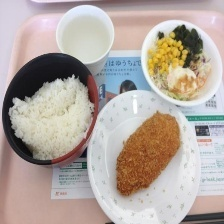rice: (8, 74, 92, 160)
